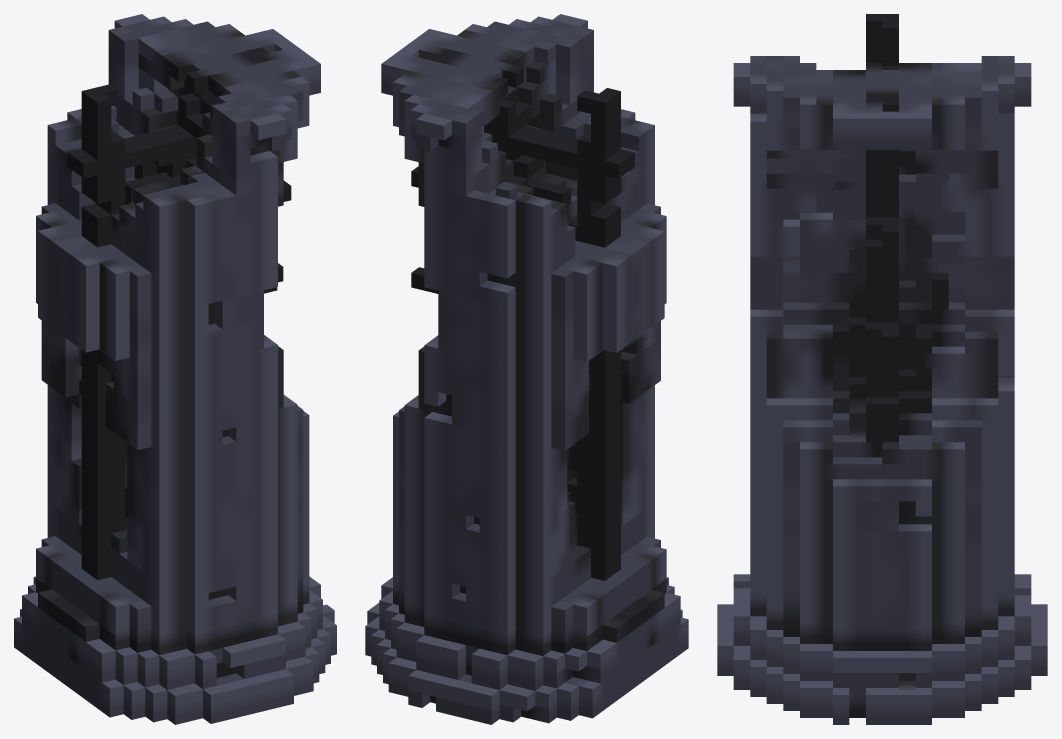
File: Broken_stone_pillar.dae
3 views of the same model, side by side, from view 1: azimuth 30°, elevation 25°; view 2: azimuth 150°, elevation 25°; view 3: azimuth 270°, elevation 25° (orthographic). The views are drawn at different scales.
Parts seen in each view (by area): view 1: Broken_stone_pillar; view 2: Broken_stone_pillar; view 3: Broken_stone_pillar.
Boxes of the visible parts, bbox=[...] form: Broken_stone_pillar: bbox=[14, 14, 336, 724]; Broken_stone_pillar: bbox=[365, 14, 688, 724]; Broken_stone_pillar: bbox=[717, 14, 1047, 724].
Size of the model in its own units: 18 by 40 by 20.
Materials: 1 (1 with a texture image).
